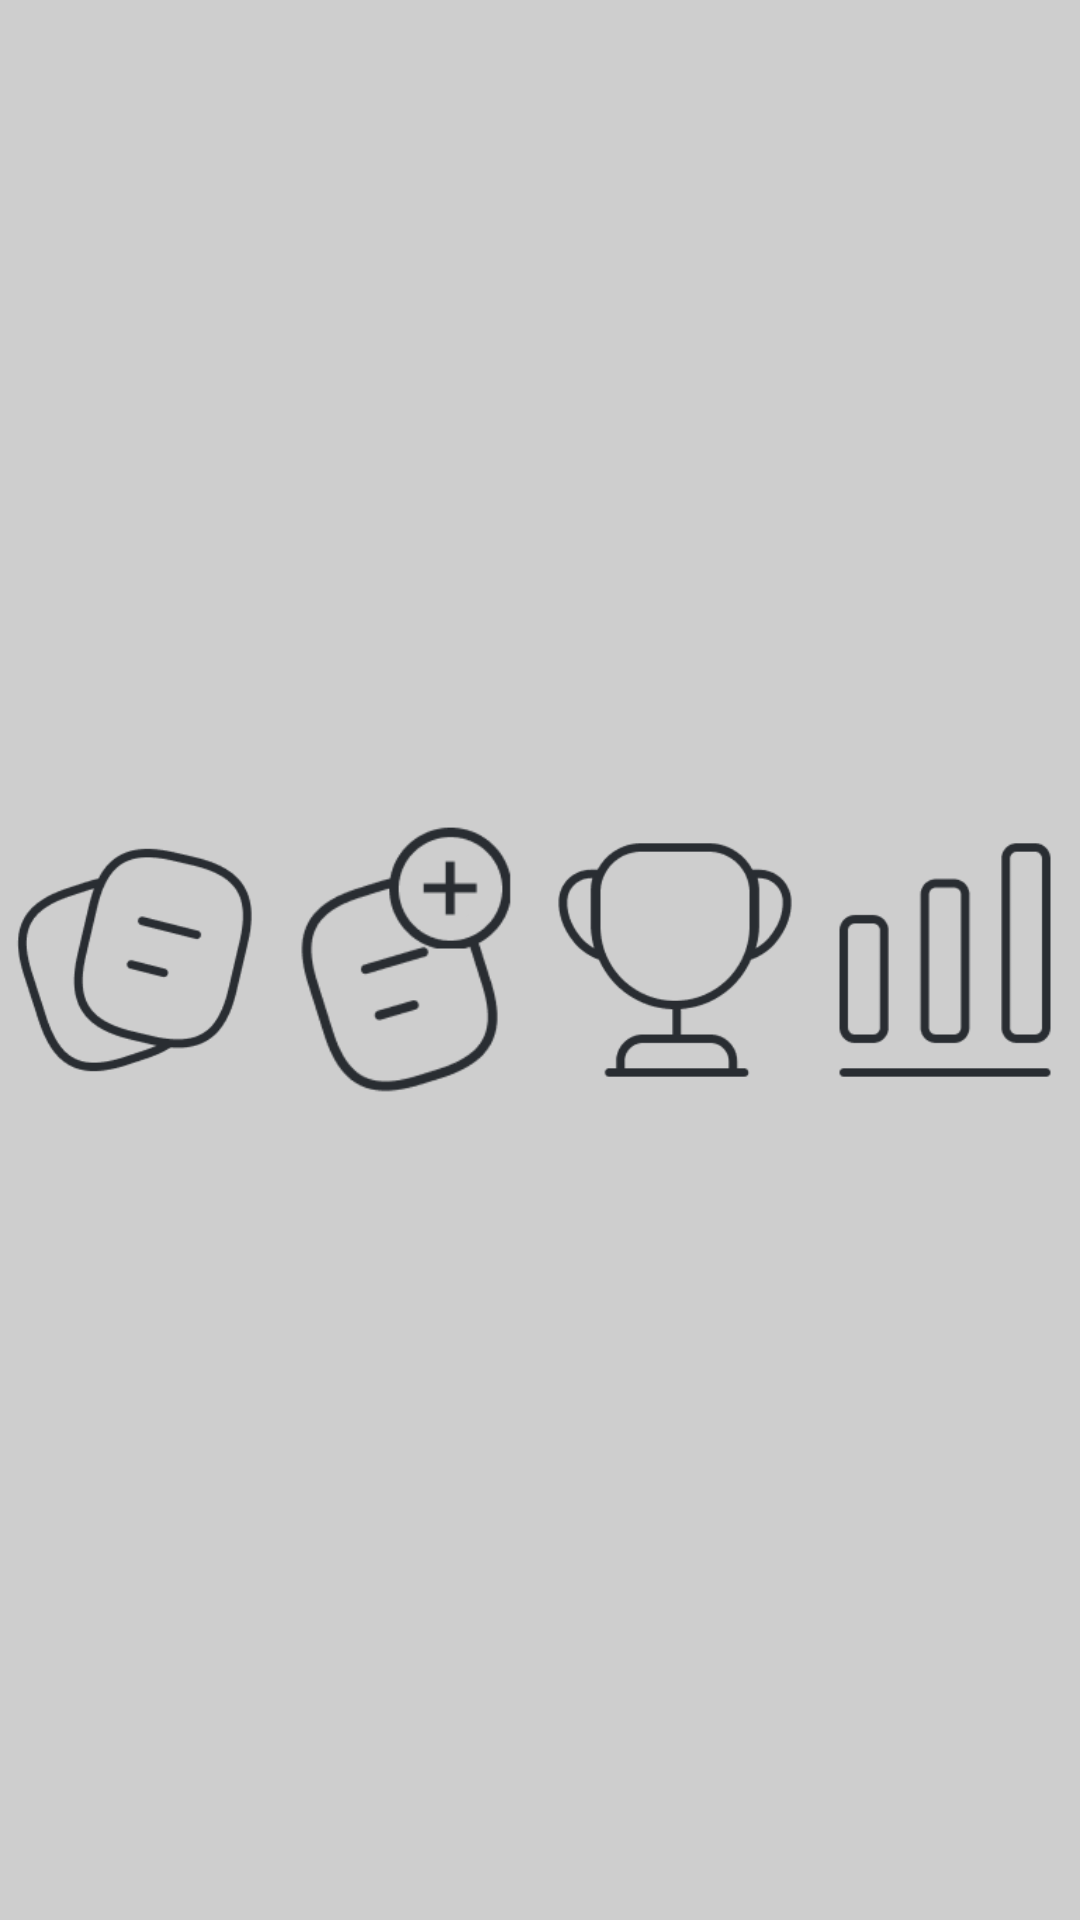

Point at icon controls on the screen. Image size 1080px×1920px, points as (x=x, y=y).
stats: (x=945, y=960)
